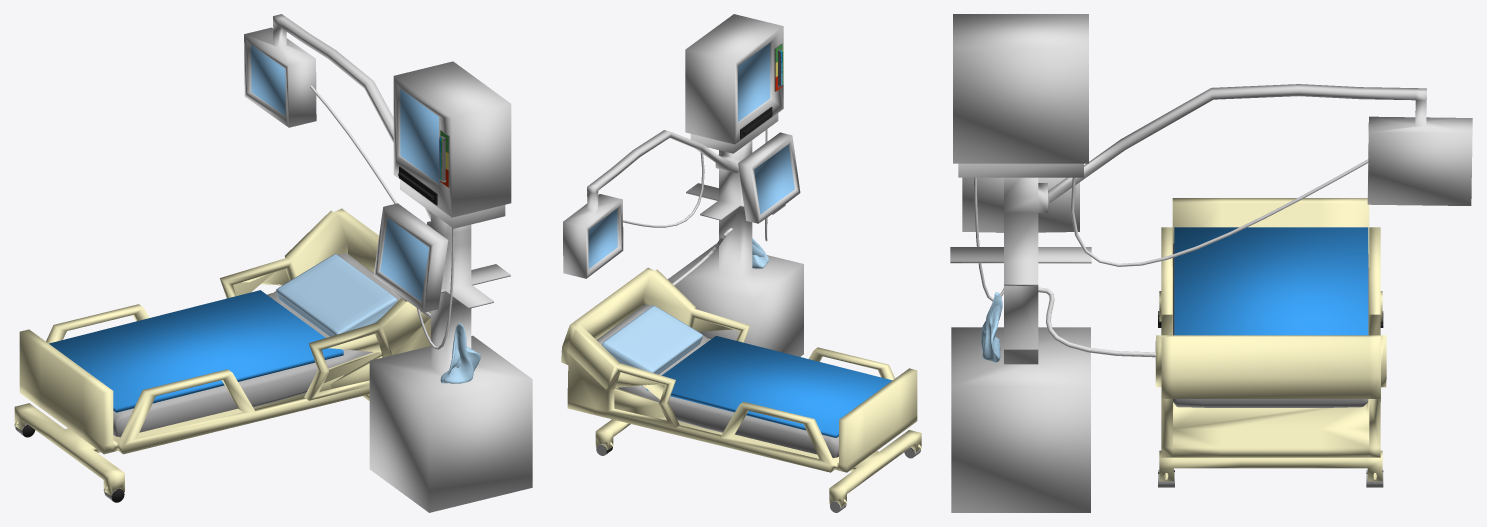
File: lifesup_bed 1.fbx
3 views of the same model, side by side, from view 1: azimuth 30°, elevation 25°; view 2: azimuth 150°, elevation 25°; view 3: azimuth 270°, elevation 25° (orthographic). The views are drawn at different scales.
Parts seen in each view (by area): view 1: Cube.001, bed; view 2: bed, Cube.001, Obj_TT_tube.001; view 3: Cube.001, bed, Obj_TT_tube.001, Obj_TT_tube.
Boxes of the visible parts, <box> form: Cube.001: <box>244,14,532,512</box>; bed: <box>14,130,449,495</box>; bed: <box>561,43,921,506</box>; Cube.001: <box>563,14,803,356</box>; Obj_TT_tube.001: <box>623,153,704,227</box>; Cube.001: <box>950,14,1472,512</box>; bed: <box>1155,198,1386,481</box>; Obj_TT_tube.001: <box>1070,159,1368,266</box>; Obj_TT_tube: <box>1038,287,1155,357</box>.
Size of the model in its own units: 657 by 717 by 748.
